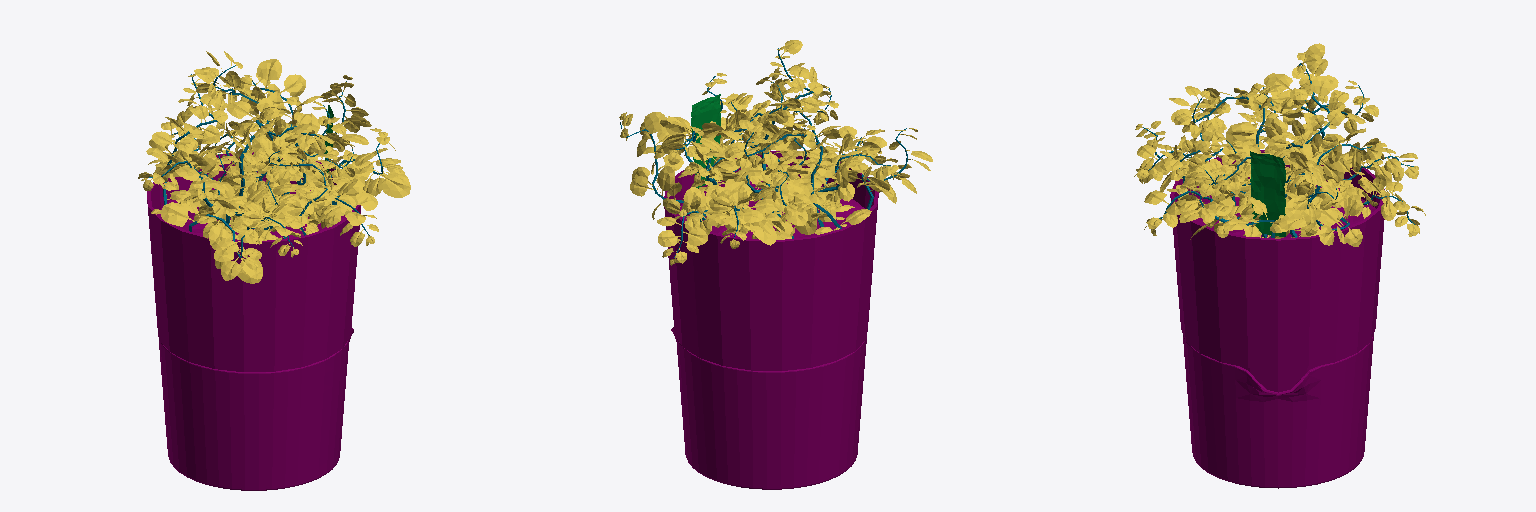
3 views of the same model, side by side, from view 1: azimuth 30°, elevation 25°; view 2: azimuth 150°, elevation 25°; view 3: azimuth 270°, elevation 25° (orthographic).
Parts seen in each view (by area): view 1: AM141_027_obj_002, AM141_027_obj_006, AM141_027_obj_004, AM141_027_obj_003; view 2: AM141_027_obj_002, AM141_027_obj_006, AM141_027_obj_004, AM141_027_obj_003, AM141_027_obj_001, AM141_027_obj_005; view 3: AM141_027_obj_006, AM141_027_obj_002, AM141_027_obj_004, AM141_027_obj_001, AM141_027_obj_003, AM141_027_obj_005.
Boxes of the visible parts, x1=… form: AM141_027_obj_002: x1=138, y1=51, x2=410, y2=283; AM141_027_obj_006: x1=147, y1=152, x2=360, y2=371; AM141_027_obj_004: x1=158, y1=328, x2=353, y2=490; AM141_027_obj_003: x1=149, y1=65, x2=382, y2=257; AM141_027_obj_002: x1=619, y1=40, x2=932, y2=265; AM141_027_obj_006: x1=664, y1=151, x2=878, y2=370; AM141_027_obj_004: x1=671, y1=327, x2=866, y2=489; AM141_027_obj_003: x1=620, y1=48, x2=907, y2=257; AM141_027_obj_001: x1=691, y1=94, x2=720, y2=187; AM141_027_obj_005: x1=677, y1=181, x2=864, y2=238; AM141_027_obj_006: x1=1170, y1=150, x2=1384, y2=392; AM141_027_obj_002: x1=1134, y1=43, x2=1425, y2=246; AM141_027_obj_004: x1=1183, y1=335, x2=1373, y2=488; AM141_027_obj_001: x1=1250, y1=151, x2=1285, y2=236; AM141_027_obj_003: x1=1143, y1=63, x2=1414, y2=237; AM141_027_obj_005: x1=1194, y1=185, x2=1375, y2=238.
Bounding box in the file's own units: 24.34 × 37.6 × 25.22.